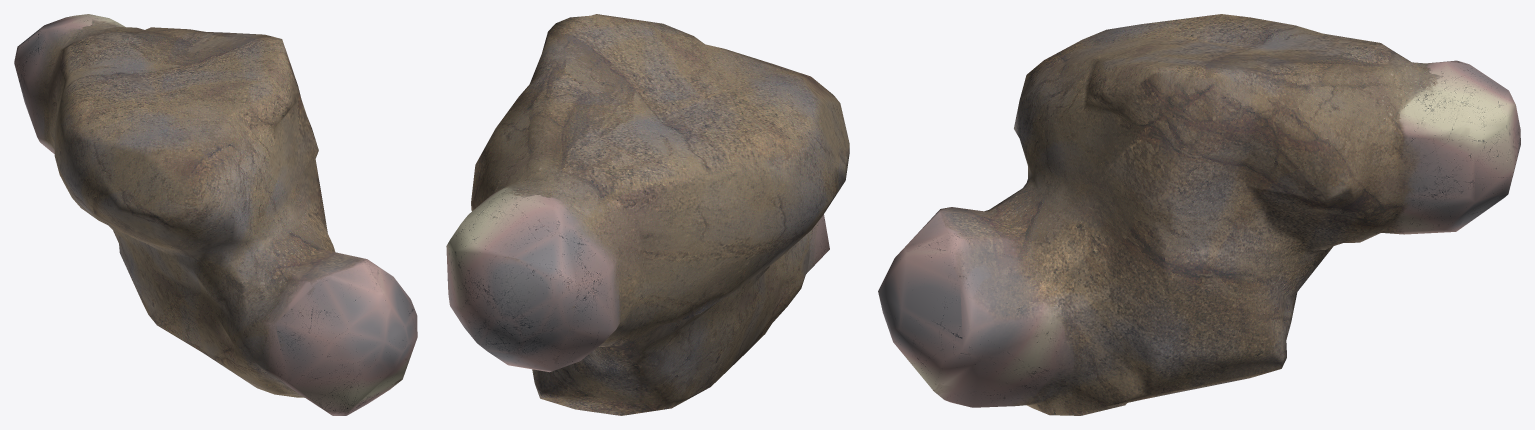
Rendered from SM_Mineral_6.fbx.
The picture shows the model from 3 angles, left to right: view 1: azimuth 30°, elevation 25°; view 2: azimuth 150°, elevation 25°; view 3: azimuth 270°, elevation 25°; orthographic projection. The views are drawn at different scales.
Parts seen in each view (by area): view 1: SM_Mineral_6; view 2: SM_Mineral_6; view 3: SM_Mineral_6.
Boxes of the visible parts, bbox=[...] form: SM_Mineral_6: bbox=[14, 14, 417, 415]; SM_Mineral_6: bbox=[446, 14, 849, 415]; SM_Mineral_6: bbox=[878, 14, 1520, 415].
Bounding box in the file's own units: 0.6913 × 0.8093 × 1.34.
